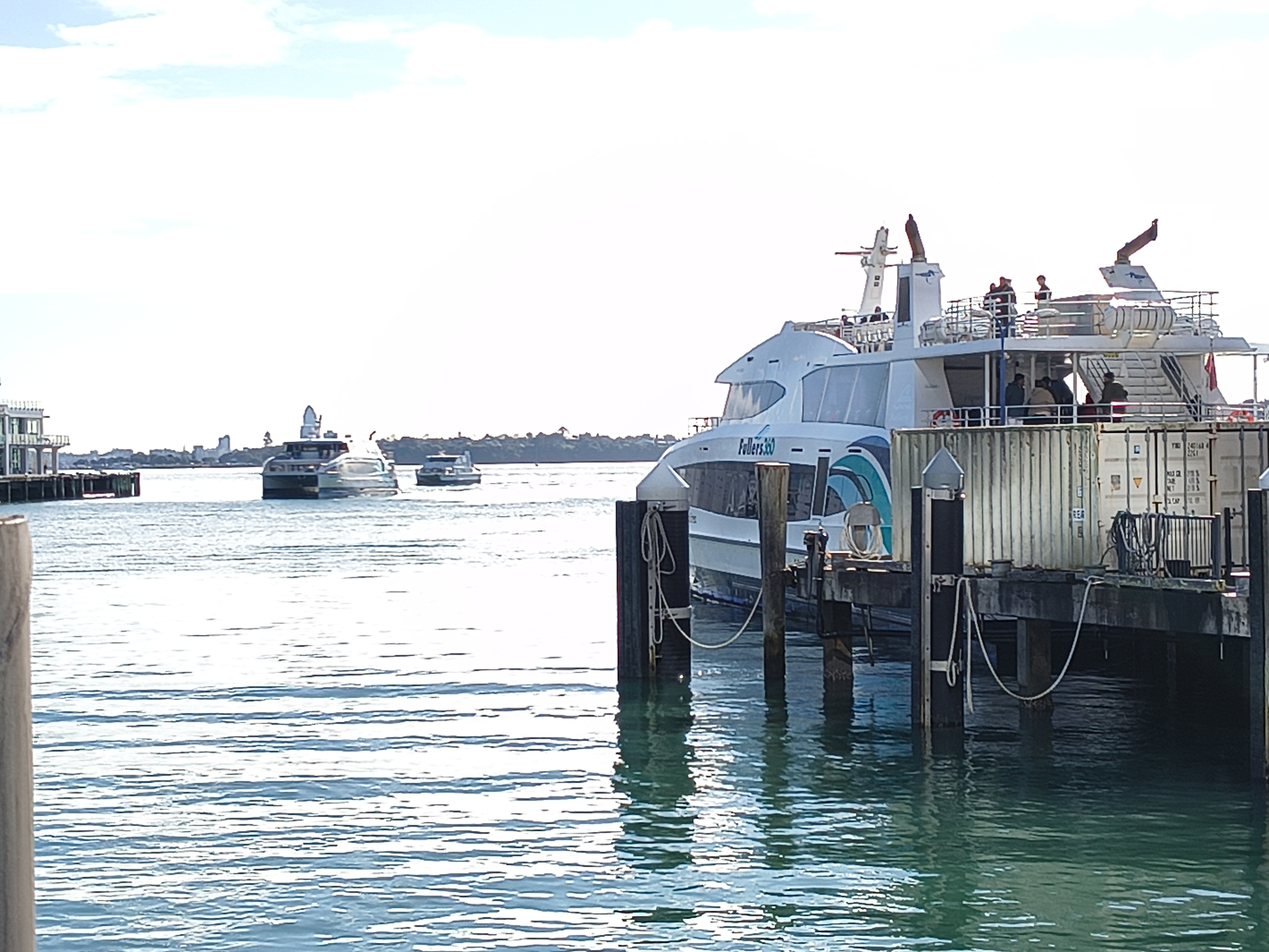ferry: (637, 228, 1269, 631), (261, 422, 396, 499)
